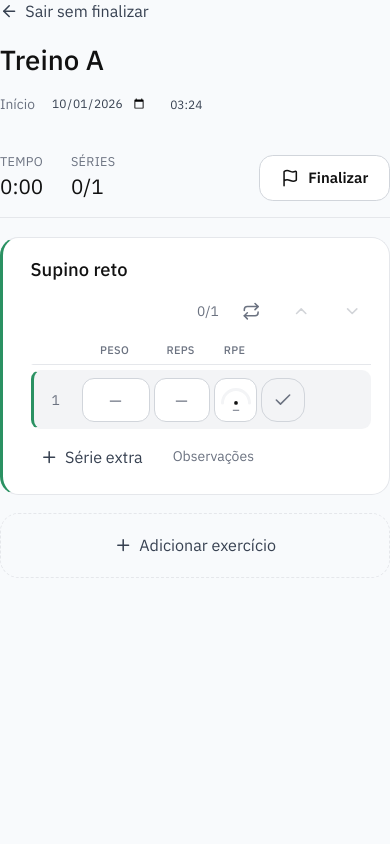
Test: completing a set with no reps or weight recorded › asks for confirmation instead of completing right away
Expected: the heading "Treino A" is shown, [0,42,104,78]
Step 1. Click the button named "Concluir série 1 de Supino reto" → point(284, 400), box [262,378,306,422]
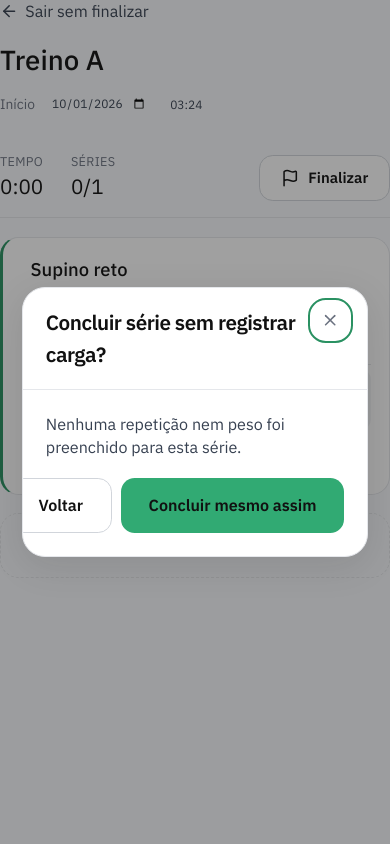
Now the heading "Concluir série sem registrar carga?" is shown, box [46,306,298,371]
